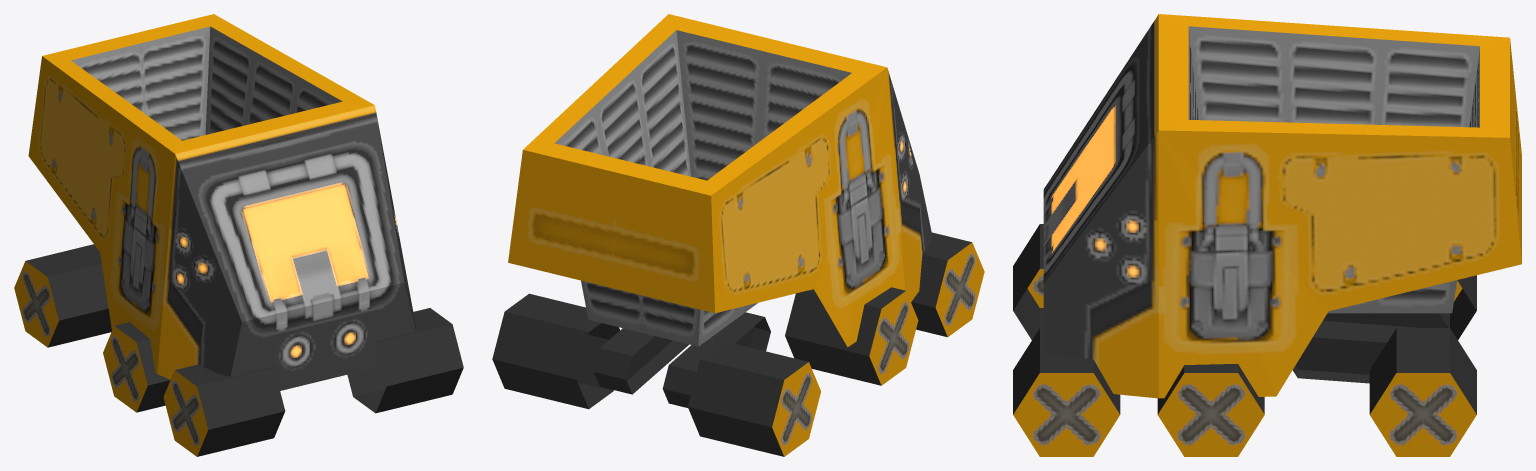
Rendered from mars-truck.glb.
3 views of the same model, side by side, from view 1: azimuth 30°, elevation 25°; view 2: azimuth 150°, elevation 25°; view 3: azimuth 270°, elevation 25° (orthographic). The views are drawn at different scales.
Parts seen in each view (by area): view 1: Cylinder; view 2: Cylinder; view 3: Cylinder.
Boxes of the visible parts, box(x1,y1,x2,y2) form: Cylinder: box(14, 14, 463, 456); Cylinder: box(492, 14, 984, 456); Cylinder: box(1013, 14, 1521, 456).
Size of the model in its own units: 4 by 3.88 by 5.77.
Materials: 1 (1 with a texture image).
